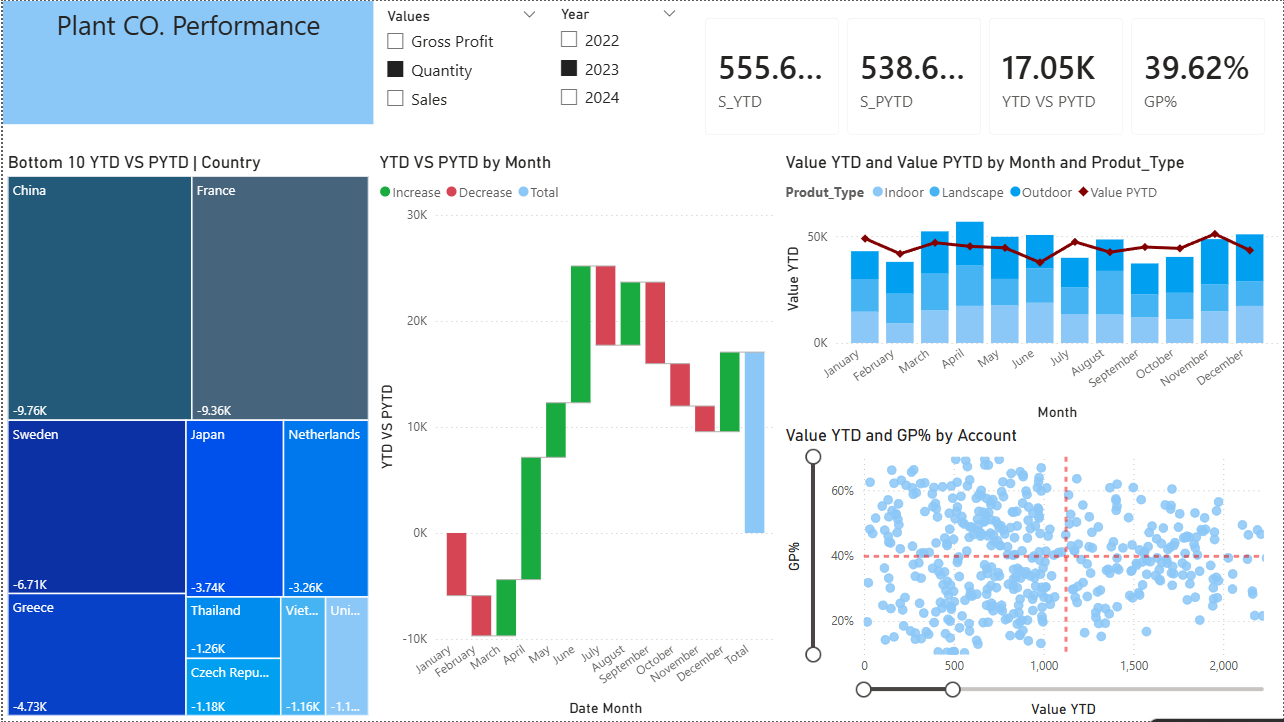

What the dashboard file says about the page in this screenshot:
{"tool":"powerbi","page":{"name":"Performance Report","canvas":[1280,720],"ordinal":0},"visuals":[{"type":"cardVisual","fields":{"Data":["_Measures.S_YTD","_Measures.S_PYTD","_Measures.YTD VS PYTD","_Measures.GP%"]},"box":[685.4,0,594.6,151.8],"z":0},{"type":"slicer","fields":{"Values":["Dim Date.Date.Variation.Date Hierarchy.Year"]},"box":[544.9,0,140.6,123.2],"z":1000},{"type":"slicer","fields":{"Values":["Slc_Values.Values"]},"box":[370.7,1.2,174.2,123.2],"z":2000},{"type":"treemap","title":"Bottom 10 YTD VS PYTD | Country","fields":{"Group":["Dim_Account.country"],"Values":["_Measures.YTD VS PYTD"]},"box":[0,151.8,370.7,568.5],"z":3000},{"type":"waterfallChart","fields":{"Category":["Dim Date.Date.Variation.Date Hierarchy.Month"],"Y":["_Measures.YTD VS PYTD"]},"box":[370.7,151.8,405.5,568.5],"z":4000},{"type":"lineStackedColumnComboChart","fields":{"Y":["_Measures.S_YTD"],"Y2":["_Measures.S_PYTD"],"Category":["Dim Date.Date.Variation.Date Hierarchy.Quarter","Dim Date.Date.Variation.Date Hierarchy.Month"],"Series":["Dim_Product.Produt_Type"]},"box":[777.5,151.8,502.6,272.4],"z":5000},{"type":"scatterChart","fields":{"Category":["Dim_Account.Account"],"X":["_Measures.S_YTD"],"Y":["_Measures.GP%"]},"box":[777,424,503,296],"z":6000},{"type":"textbox","box":[0,0,370.7,123.2],"z":6001}]}

Visuals, with their boxes in screenshot pixels (x1, y1, x2, y2), scaled from the page's 1280x720 canvas onto the 1284x722 screenshot:
cardVisual - _Measures.S_YTD x _Measures.S_PYTD: <bbox>688, 0, 1283, 152</bbox>
slicer - Dim Date.Date.Variation.Date Hierarchy.Year: <bbox>547, 0, 688, 124</bbox>
slicer - Slc_Values.Values: <bbox>372, 1, 547, 125</bbox>
"Bottom 10 YTD VS PYTD | Country" treemap: <bbox>0, 152, 372, 721</bbox>
waterfallChart - Dim Date.Date.Variation.Date Hierarchy.Month x _Measures.YTD VS PYTD: <bbox>372, 152, 779, 721</bbox>
lineStackedColumnComboChart - _Measures.S_YTD x _Measures.S_PYTD: <bbox>780, 152, 1283, 425</bbox>
scatterChart - Dim_Account.Account x _Measures.S_YTD: <bbox>779, 425, 1283, 721</bbox>
textbox: <bbox>0, 0, 372, 124</bbox>
